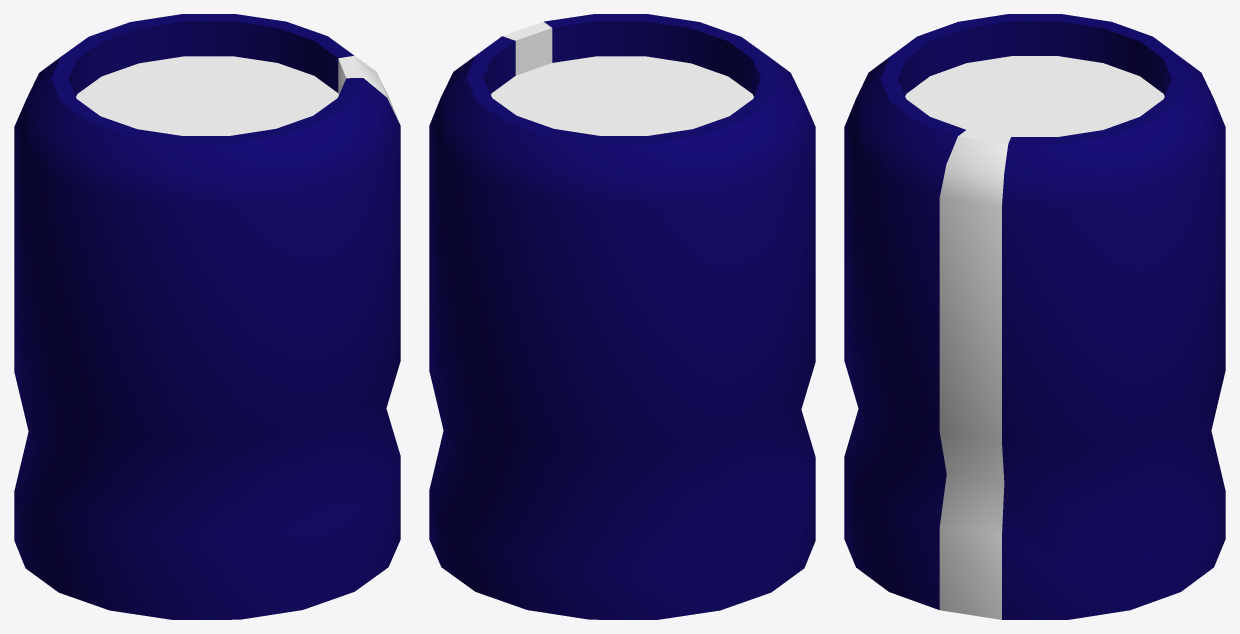
Rendered from Capacitor_1_ElectrolyticBlue.fbx.
3 renders of one model, left to right at view 1: azimuth 30°, elevation 25°; view 2: azimuth 150°, elevation 25°; view 3: azimuth 270°, elevation 25°, orthographic.
Parts seen in each view (by area): view 1: Capacitor_1_ElectrolyticBlue; view 2: Capacitor_1_ElectrolyticBlue; view 3: Capacitor_1_ElectrolyticBlue.
Part boxes in pixels (box(x1,y1,x2,y2)): Capacitor_1_ElectrolyticBlue: box(14, 14, 400, 619); Capacitor_1_ElectrolyticBlue: box(429, 14, 815, 619); Capacitor_1_ElectrolyticBlue: box(844, 14, 1225, 619).
Bounding box in the file's own units: 30 × 40 × 30.
